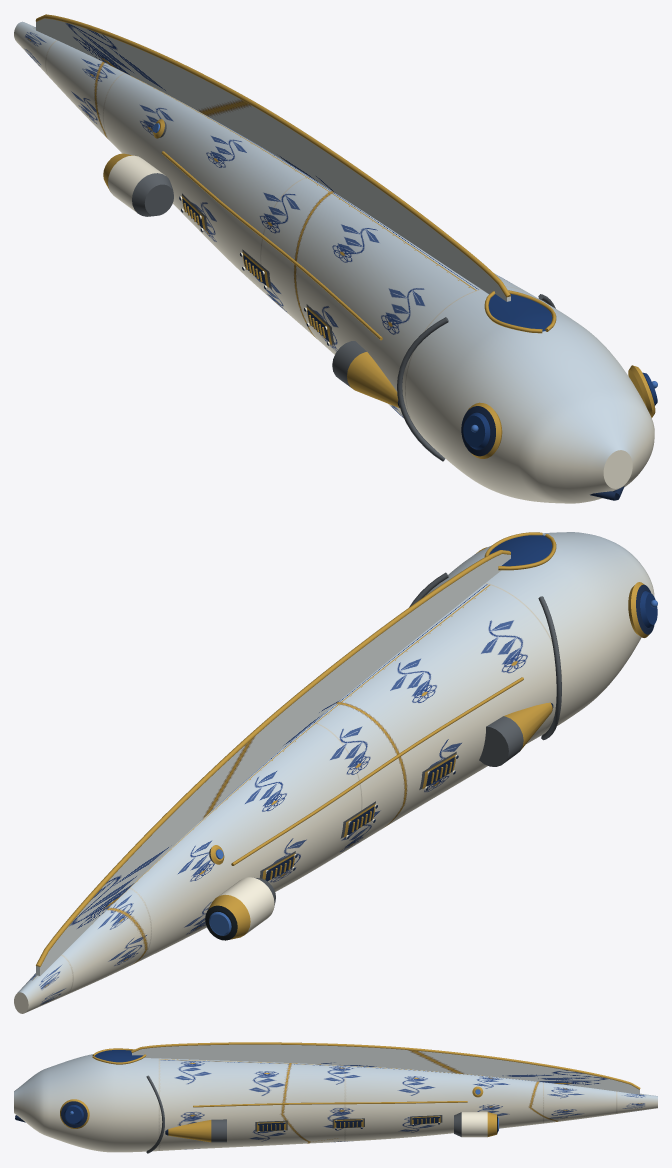
3 views of the same model, one above another, from view 1: azimuth 30°, elevation 25°; view 2: azimuth 150°, elevation 25°; view 3: azimuth 270°, elevation 25° (orthographic). The views are drawn at different scales.
Parts seen in each view (by area): view 1: moray_hull; view 2: moray_hull; view 3: moray_hull.
Boxes of the visible parts, x1,y1,x2,y2 form: moray_hull: (14, 14, 657, 503); moray_hull: (14, 532, 657, 1013); moray_hull: (14, 1042, 657, 1153).
Bounding box in the file's own units: 10.79 × 10.8 × 60.
Materials: 1 (1 with a texture image).
